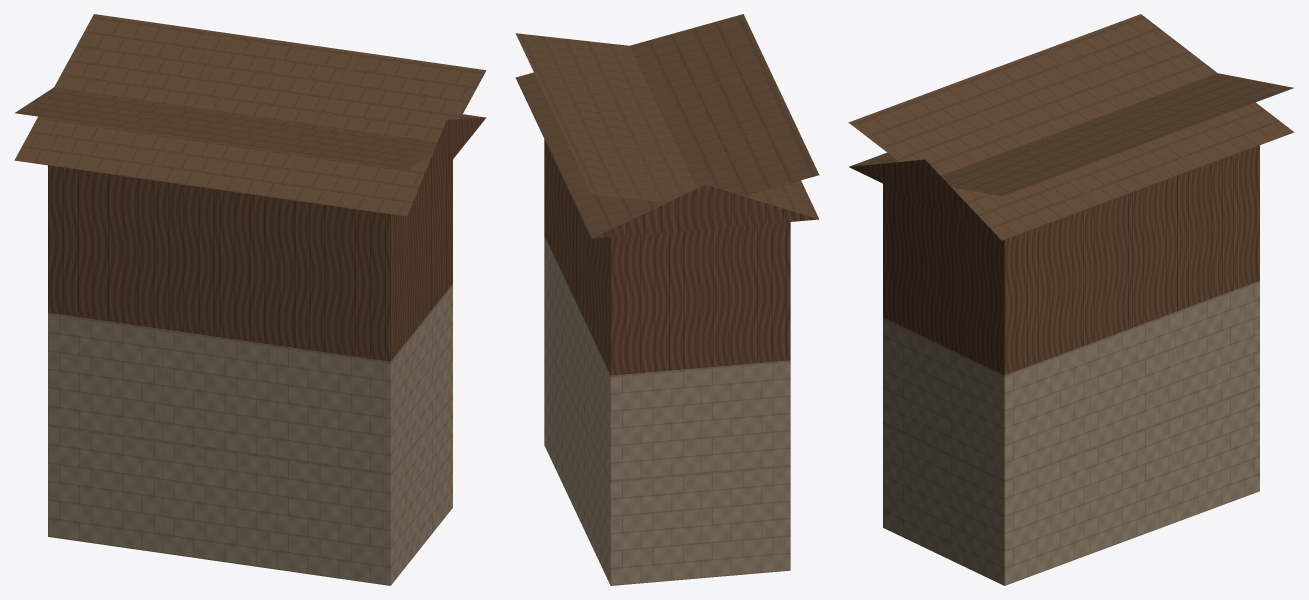
File: bld_c42_46_194.gltf
The picture shows the model from 3 angles, left to right: view 1: azimuth 30°, elevation 25°; view 2: azimuth 150°, elevation 25°; view 3: azimuth 270°, elevation 25°; orthographic projection. The views are drawn at different scales.
Visible parts, largest first — view 1: bld_c42_46_194; view 2: bld_c42_46_194; view 3: bld_c42_46_194.
Part boxes in pixels (box(x1,y1,x2,y2)): bld_c42_46_194: box(14, 14, 486, 585); bld_c42_46_194: box(515, 14, 819, 585); bld_c42_46_194: box(848, 14, 1294, 585).
Size of the model in its own units: 8.81 by 9.1 by 9.1.
Materials: 4 (4 with a texture image).
